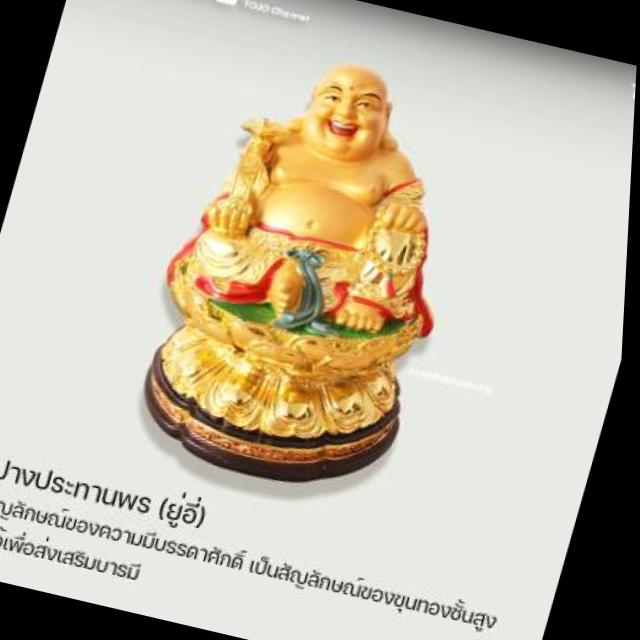Smiling Buddha: (159, 28, 507, 364)
